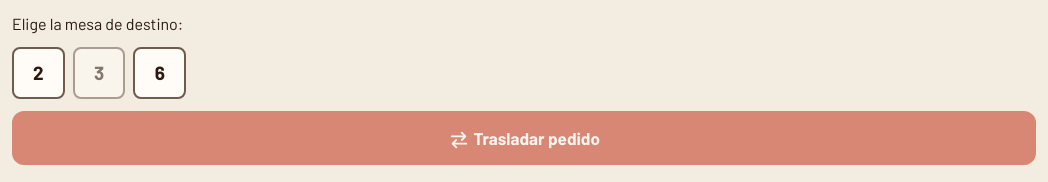
TrasladoMesa: elegir y trasladar › al elegir un destino se marca y el botón dice a qué mesa va
Click the button "6". click: (160, 73)
box: [133, 47, 186, 99]
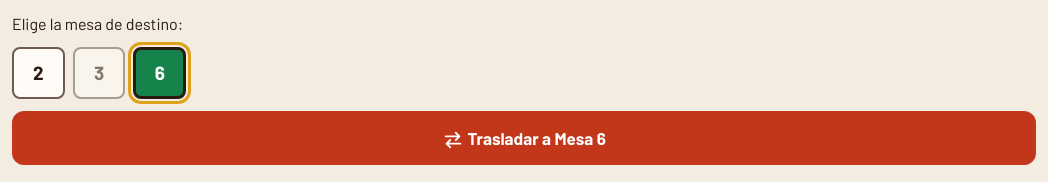
expect the button "Trasladar a Mesa 6" is enabled: met, box [12, 111, 1036, 165]
